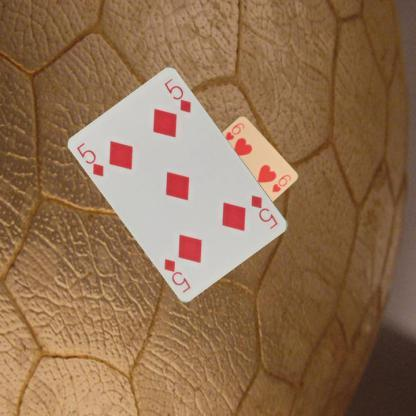5d: (248, 192, 280, 230), (74, 140, 106, 178)
6h: (223, 120, 246, 142)
